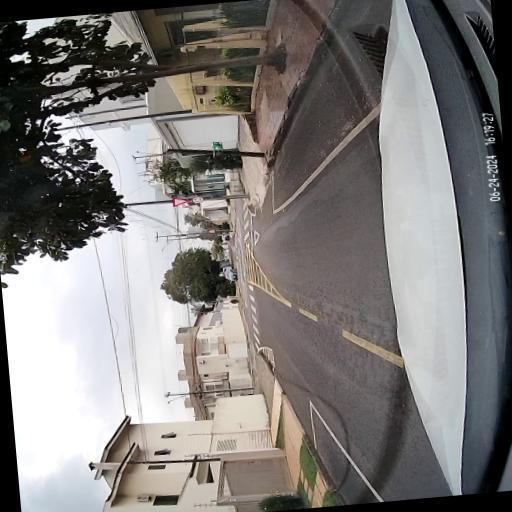R-2: (172, 195, 190, 207)
R-33: (192, 196, 204, 202)
